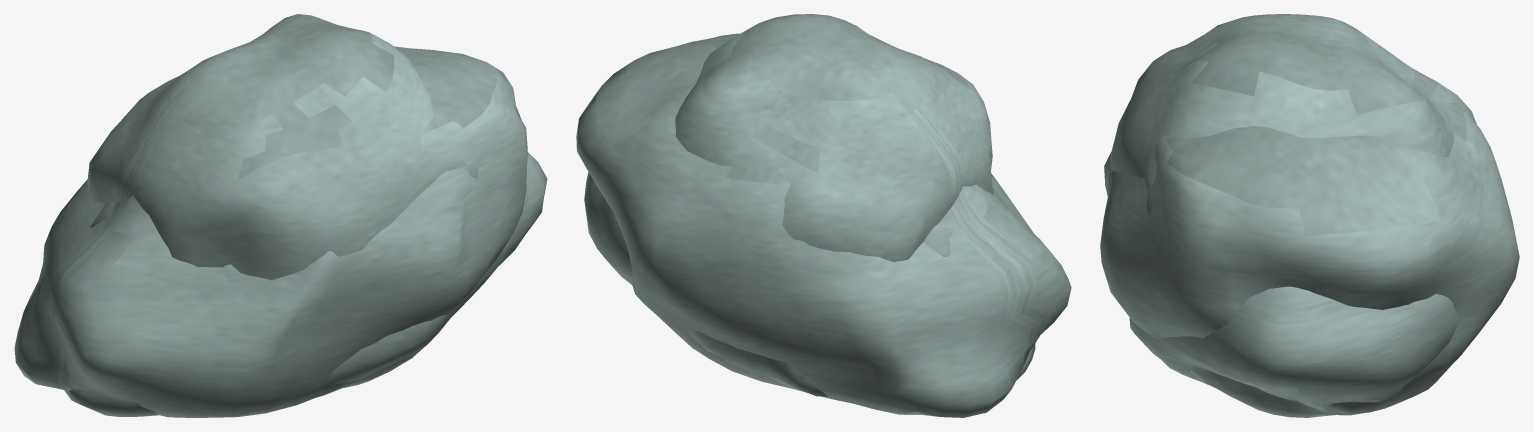
Rendered from SuckTheSea_Sparkle.fbx.
3 views of the same model, side by side, from view 1: azimuth 30°, elevation 25°; view 2: azimuth 150°, elevation 25°; view 3: azimuth 270°, elevation 25° (orthographic). The views are drawn at different scales.
Parts seen in each view (by area): view 1: Rock__Granite, Rock__ReefStone, Rock__TideStone; view 2: Rock__Granite, Rock__ReefStone, Rock__TideStone; view 3: Rock__Granite, Rock__ReefStone, Rock__TideStone.
Part boxes in pixels (box(x1,y1,x2,y2)): Rock__Granite: box(14, 46, 527, 417); Rock__ReefStone: box(87, 14, 478, 387); Rock__TideStone: box(64, 152, 547, 416); Rock__Granite: box(576, 33, 1071, 417); Rock__ReefStone: box(675, 14, 993, 396); Rock__TideStone: box(584, 172, 1035, 380); Rock__Granite: box(1100, 102, 1519, 417); Rock__ReefStone: box(1110, 14, 1476, 400); Rock__TideStone: box(1129, 286, 1459, 415).
Bounding box in the file's own units: 5.51 × 3.45 × 3.92.
1 material, 1 textured.
